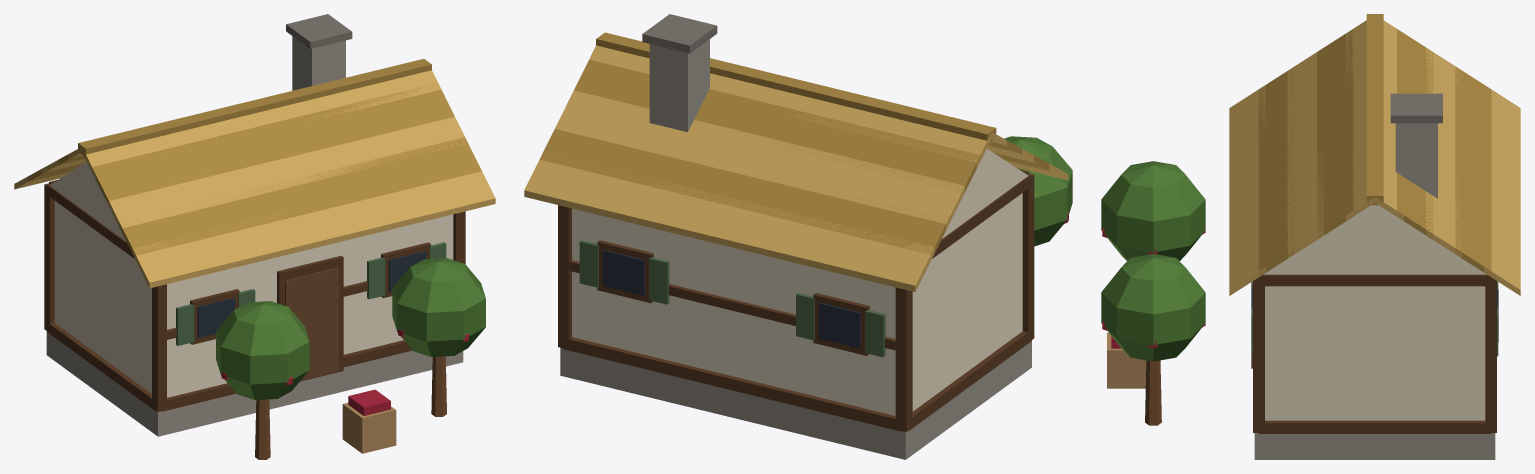
Rendered from orchard.glb.
The picture shows the model from 3 angles, left to right: view 1: azimuth 30°, elevation 25°; view 2: azimuth 150°, elevation 25°; view 3: azimuth 270°, elevation 25°; orthographic projection. The views are drawn at different scales.
Parts seen in each view (by area): view 1: orchard; view 2: orchard; view 3: orchard.
Part boxes in pixels (left/top/right/bottom): orchard: left=14, top=14, right=495, bottom=459; orchard: left=524, top=14, right=1072, bottom=459; orchard: left=1101, top=14, right=1520, bottom=459.
Size of the model in its own units: 5.1 by 4.17 by 4.97.
